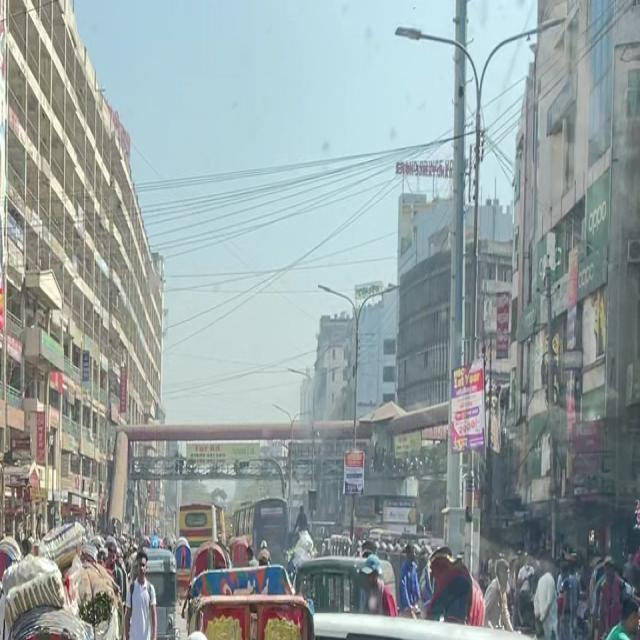car: (321, 599, 638, 640)
